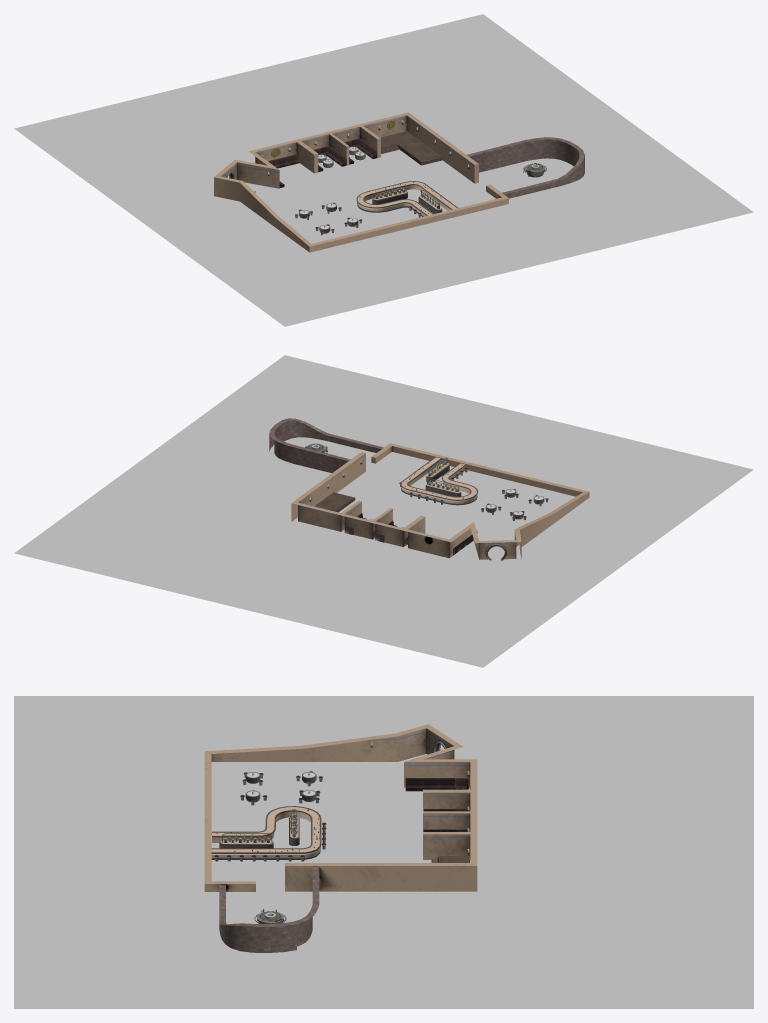
The model's file is hub_v05.fbx.
The picture shows the model from 3 angles, top to bottom: view 1: azimuth 30°, elevation 25°; view 2: azimuth 150°, elevation 25°; view 3: azimuth 270°, elevation 25°; orthographic projection. The views are drawn at different scales.
Visible parts, largest first — view 1: Floor, Walls, Bar, Props, Stage; view 2: Floor, Walls, Bar, Props; view 3: Floor, Walls, Bar, Props.
Part boxes in pixels (<box>): Floor: <box>14,14,753,326</box>; Walls: <box>214,112,584,252</box>; Bar: <box>356,181,457,216</box>; Props: <box>254,120,469,235</box>; Stage: <box>380,131,442,165</box>; Floor: <box>14,355,753,667</box>; Walls: <box>269,418,589,561</box>; Bar: <box>400,457,478,505</box>; Props: <box>309,460,548,555</box>; Floor: <box>14,696,753,1008</box>; Walls: <box>204,724,477,952</box>; Bar: <box>211,806,321,859</box>; Props: <box>214,742,470,861</box>.
Size of the model in its own units: 4851 by 204 by 4851.
